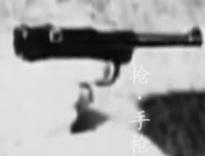gun: (1, 1, 205, 156)
